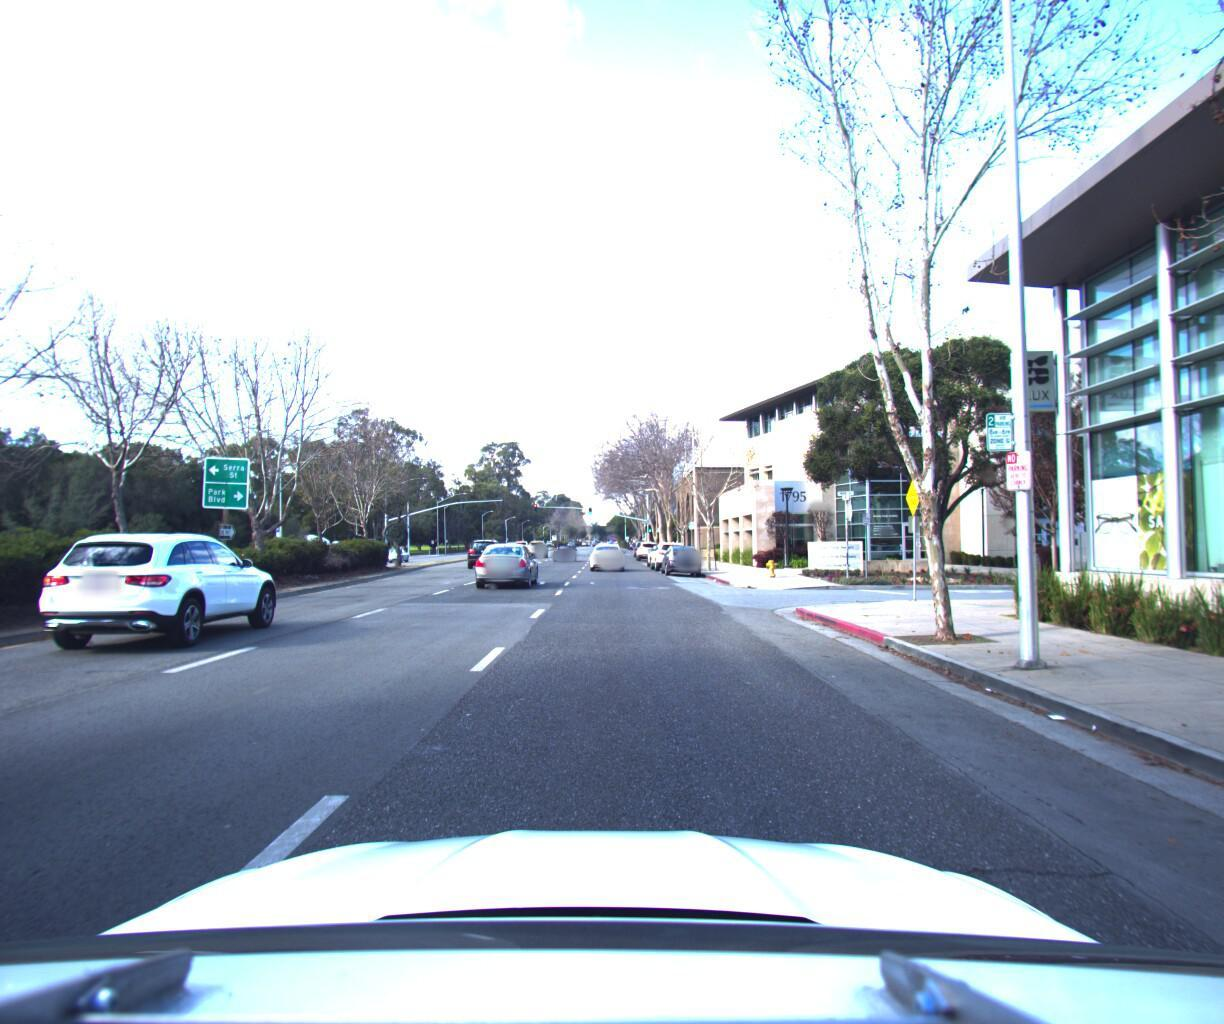car: (36, 527, 286, 654), (472, 534, 544, 586), (659, 536, 700, 570), (465, 532, 509, 562), (650, 531, 691, 561), (589, 536, 623, 566), (635, 531, 661, 550), (552, 533, 576, 552), (528, 532, 550, 551)
